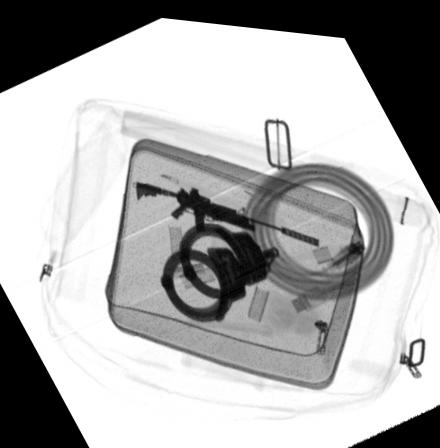Gun: (133, 177, 322, 241)
HandCuffs: (159, 218, 281, 320)
